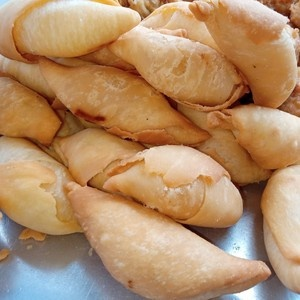pisang_molen: (63, 181, 269, 300), (41, 54, 212, 145), (104, 146, 242, 227)
